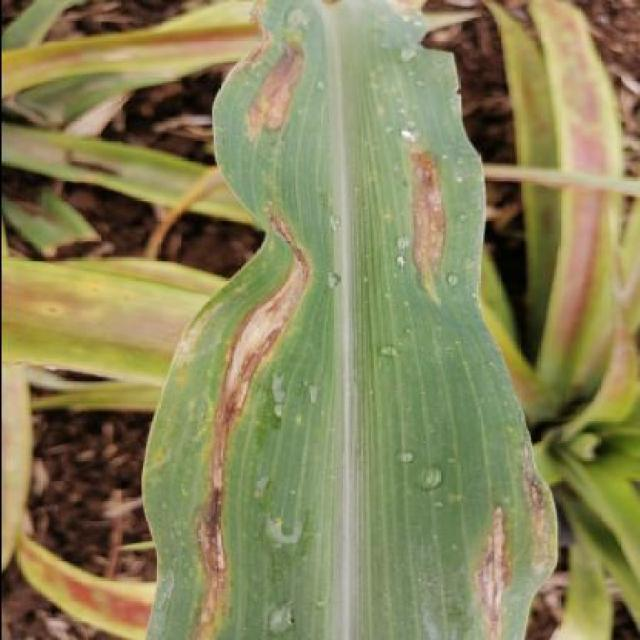Corn_Leaf_Blight: (138, 0, 557, 640)
